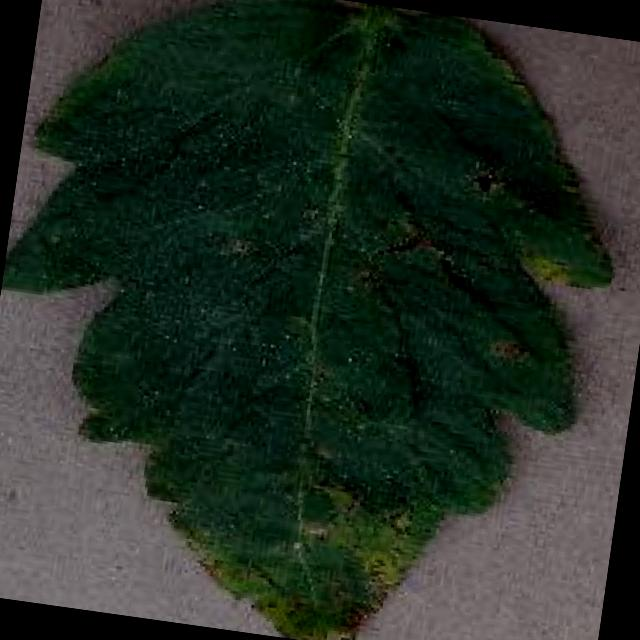bacterial spot: (2, 0, 616, 640)
